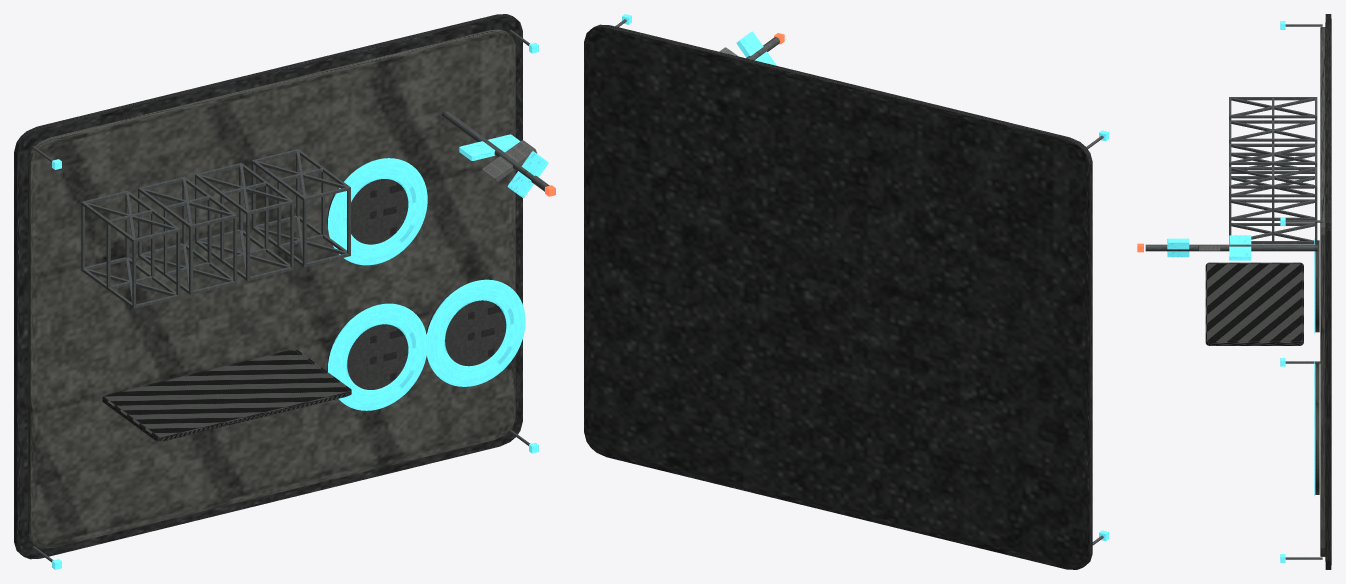
Rendered from b-20-drone-bay-lod0.glb.
The picture shows the model from 3 angles, left to right: view 1: azimuth 30°, elevation 25°; view 2: azimuth 150°, elevation 25°; view 3: azimuth 270°, elevation 25°; orthographic projection. The views are drawn at different scales.
Visible parts, largest first — view 1: foundation_inner_pad, foundation, drone_hangar_opening, drone_pad_ring_1, drone_pad_ring_0, drone_pad_ring_2, drone_pad_0, drone_pad_1, drone_pad_2, drone_telecom_mast_main, drone_telecom_mast_array_1, drone_telecom_mast_array_0 (+1 smaller); view 2: foundation; view 3: drone_hangar_opening, foundation, foundation_inner_pad, drone_telecom_mast_main, drone_telecom_mast_array_0, drone_pad_1, drone_pad_2, drone_telecom_mast_array_2, drone_rack_0_column_e_n, drone_rack_1_column_e_n, drone_rack_3_column_e_n, drone_rack_1_column_e_s (+17 smaller).
Part boxes in pixels (<box>): foundation_inner_pad: <box>28,29,515,548</box>; foundation: <box>14,14,522,559</box>; drone_hangar_opening: <box>102,349,351,441</box>; drone_pad_ring_1: <box>426,279,525,386</box>; drone_pad_ring_0: <box>328,303,426,410</box>; drone_pad_ring_2: <box>328,158,427,265</box>; drone_pad_0: <box>327,305,408,389</box>; drone_pad_1: <box>426,281,506,366</box>; drone_pad_2: <box>327,159,408,244</box>; drone_telecom_mast_main: <box>442,110,549,191</box>; drone_telecom_mast_array_1: <box>482,140,537,182</box>; drone_telecom_mast_array_0: <box>459,134,520,160</box>; foundation: <box>584,24,1092,569</box>; drone_hangar_opening: <box>1205,262,1303,345</box>; foundation: <box>1325,14,1331,569</box>; foundation_inner_pad: <box>1320,27,1325,556</box>; drone_telecom_mast_main: <box>1145,244,1317,251</box>; drone_telecom_mast_array_0: <box>1229,235,1251,260</box>; drone_pad_1: <box>1315,403,1319,494</box>; drone_pad_2: <box>1315,240,1319,332</box>; drone_telecom_mast_array_2: <box>1167,238,1189,257</box>; drone_rack_0_column_e_n: <box>1231,115,1314,118</box>; drone_rack_1_column_e_n: <box>1231,138,1314,141</box>; drone_rack_3_column_e_n: <box>1231,185,1314,188</box>; drone_rack_1_column_e_s: <box>1231,194,1314,197</box>.
Size of what is drawn, in the model's own units: 16 by 13 by 6.32.
8 materials, 8 textured.
